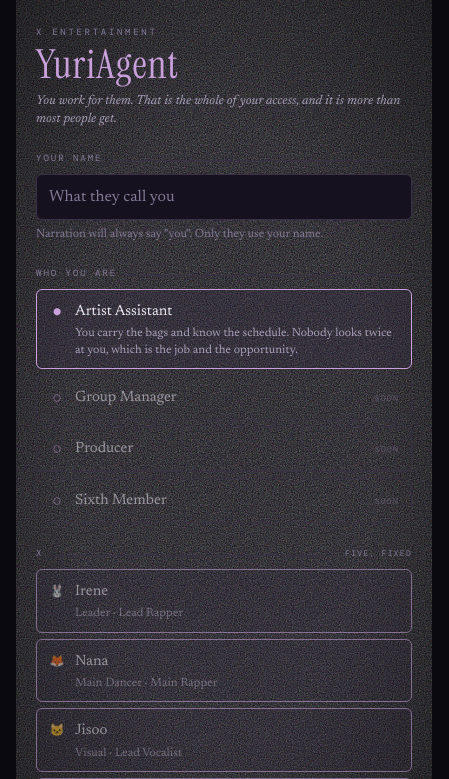
Test: walking into a room › goes straight to her, with nothing in between
This screenshot has width=449, height=779.
Type "Yuhan" into the field at (224, 197), box [36,174,412,220]
(page scrolled)
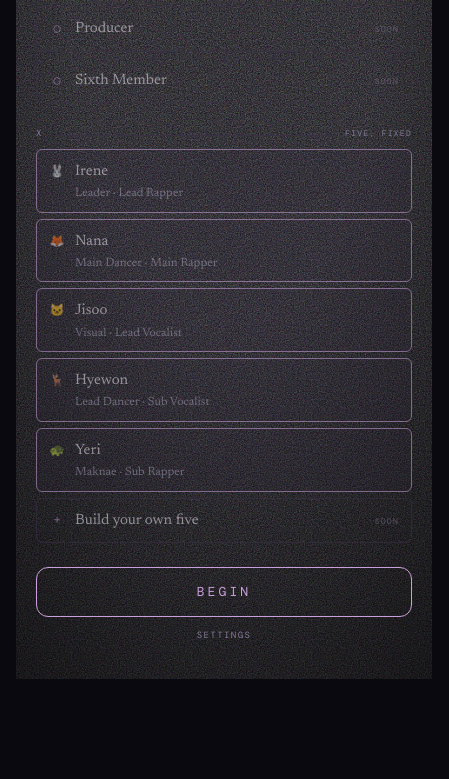
Click the button "Begin" at (224, 592), box [36,567,412,617]
(page scrolled)
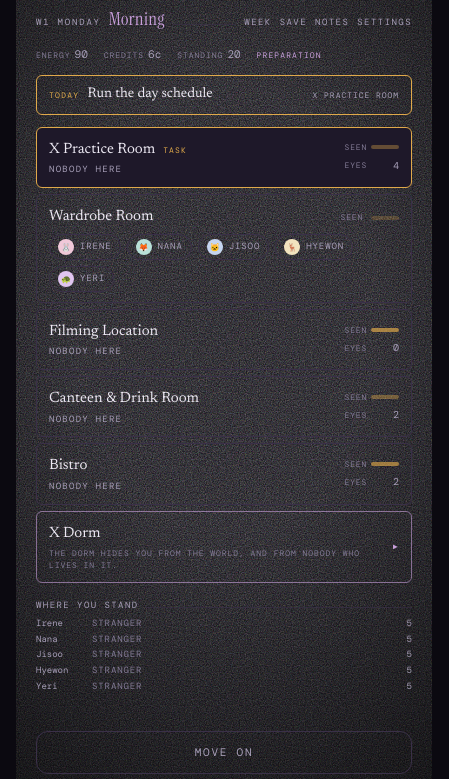
Check: the button "Week" is shown, box [244,16,272,30]
Click the button "🐰 Irene" at (85, 247), box [49,234,120,260]
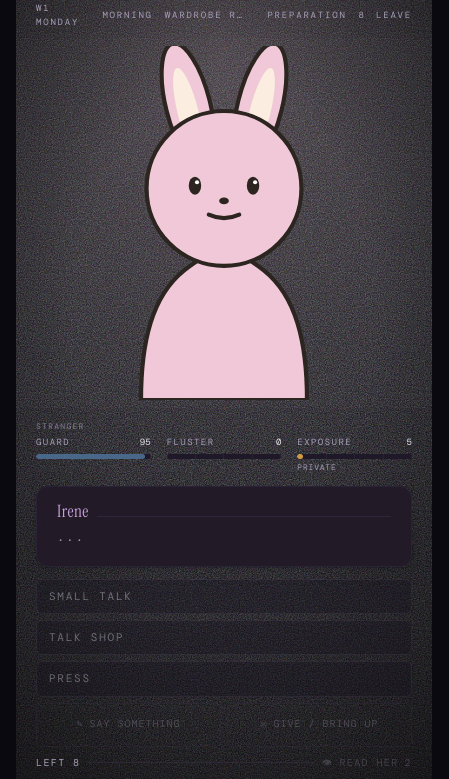
Check: the text "left" is shown, box [36,756,66,768]
